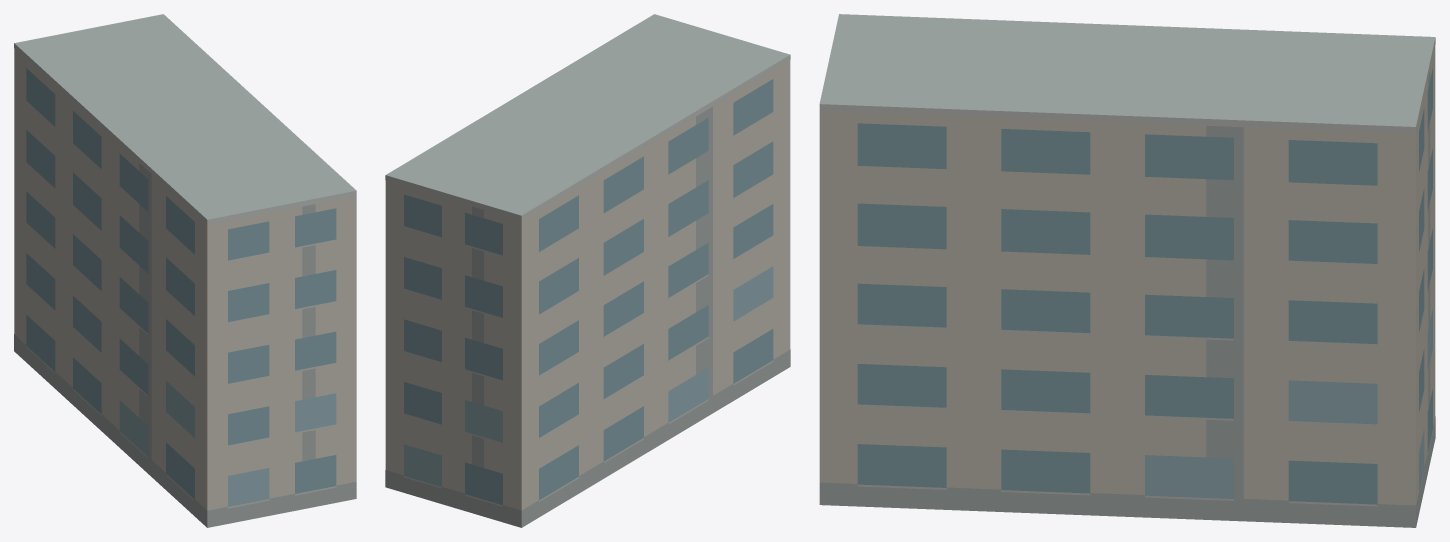
Rendered from survey-upis-32959595.glb.
3 renders of one model, left to right at view 1: azimuth 30°, elevation 25°; view 2: azimuth 150°, elevation 25°; view 3: azimuth 270°, elevation 25°, orthographic. The views are drawn at different scales.
Visible parts, largest first — view 1: survey-upis-32959595.tmp; view 2: survey-upis-32959595.tmp; view 3: survey-upis-32959595.tmp.
Part boxes in pixels (x1,y1,x2,y2): survey-upis-32959595.tmp: (14,14,356,527); survey-upis-32959595.tmp: (385,14,790,527); survey-upis-32959595.tmp: (819,14,1435,527).
Bounding box in the file's own units: 8.56 × 14.15 × 19.72.
